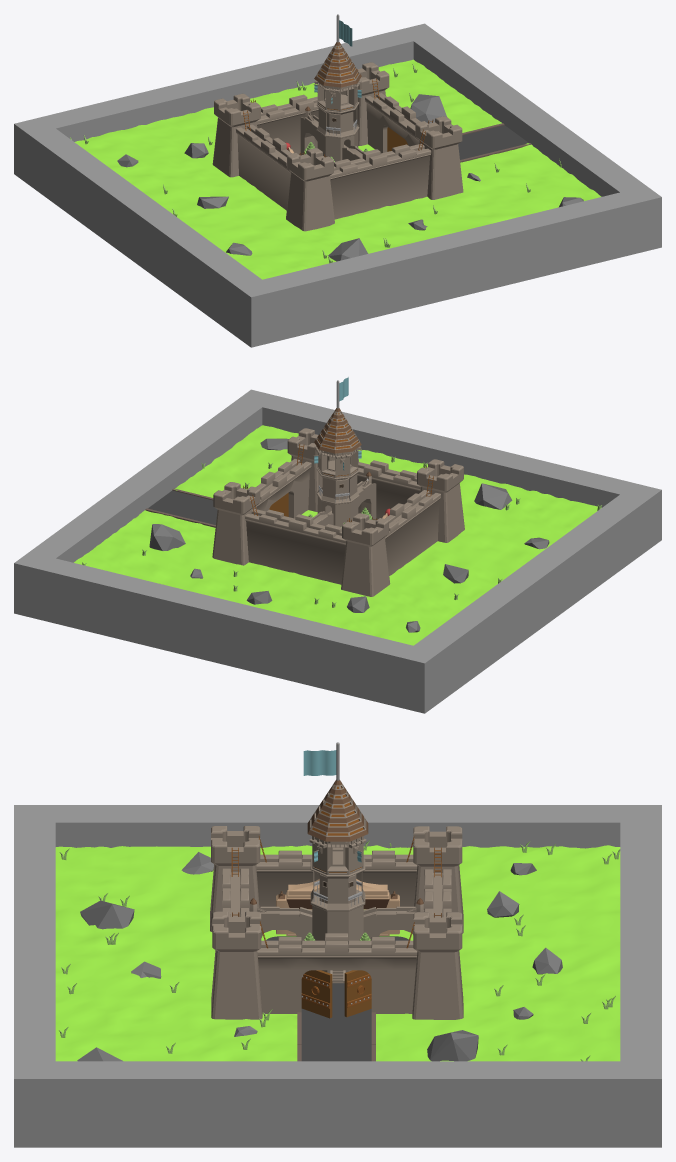
The model's file is castle.fbx.
3 renders of one model, top to bottom at view 1: azimuth 30°, elevation 25°; view 2: azimuth 150°, elevation 25°; view 3: azimuth 270°, elevation 25°, orthographic. The views are drawn at different scales.
Parts seen in each view (by area): view 1: Cube, Plane, Cube_67, Cylinderkl, Cube_68, Cube_72, Cube_70, Cube_71, Cube_73, Cube_66, jalur_jalan, Cube_69 (+3 smaller); view 2: Cube, Plane, Cube_66, Cylinderkl, Cube_71, Cube_72, Cube_69, Cube_68, Cube_73, Cube_67, jalur_jalan, Cube_70 (+3 smaller); view 3: Cube, Plane, Cube_73, Cylinderkl, Cube_70, Cube_69, Cube_72, jalur_jalan, Cube_71, Cube_68, jembatan, Cube_3_2 (+8 smaller).
Part boxes in pixels (bbox=[...]): Cube: bbox=[14, 23, 661, 347]; Plane: bbox=[74, 59, 601, 279]; Cube_67: bbox=[330, 143, 431, 219]; Cylinderkl: bbox=[313, 15, 361, 161]; Cube_68: bbox=[286, 148, 334, 231]; Cube_72: bbox=[236, 124, 292, 210]; Cube_70: bbox=[415, 116, 463, 199]; Cube_71: bbox=[212, 93, 260, 177]; Cube_73: bbox=[365, 93, 420, 153]; Cube_66: bbox=[256, 94, 318, 155]; jalur_jalan: bbox=[458, 125, 528, 159]; Cube_69: bbox=[357, 62, 389, 145]; Cube: bbox=[14, 389, 661, 713]; Plane: bbox=[74, 425, 601, 645]; Cube_66: bbox=[245, 509, 346, 584]; Cylinderkl: bbox=[314, 381, 362, 526]; Cube_71: bbox=[341, 513, 390, 596]; Cube_72: bbox=[385, 490, 440, 575]; Cube_69: bbox=[212, 482, 260, 565]; Cube_68: bbox=[417, 459, 464, 542]; Cube_73: bbox=[254, 458, 311, 518]; Cube_67: bbox=[357, 459, 420, 519]; jalur_jalan: bbox=[148, 490, 217, 524]; Cube_70: bbox=[287, 428, 318, 511]; Cube: bbox=[14, 805, 661, 1147]; Plane: bbox=[55, 845, 620, 1061]; Cube_73: bbox=[257, 933, 417, 1013]; Cylinderkl: bbox=[307, 744, 368, 973]; Cube_70: bbox=[211, 911, 262, 1019]; Cube_69: bbox=[412, 912, 463, 1019]; Cube_72: bbox=[256, 847, 417, 908]; jalur_jalan: bbox=[266, 936, 409, 1061]; Cube_71: bbox=[413, 826, 463, 933]; Cube_68: bbox=[210, 826, 260, 931]; jembatan: bbox=[249, 906, 424, 940]; Cube_3_2: bbox=[276, 879, 399, 935].
Size of the model in its own units: 3200 by 1462 by 3200.
